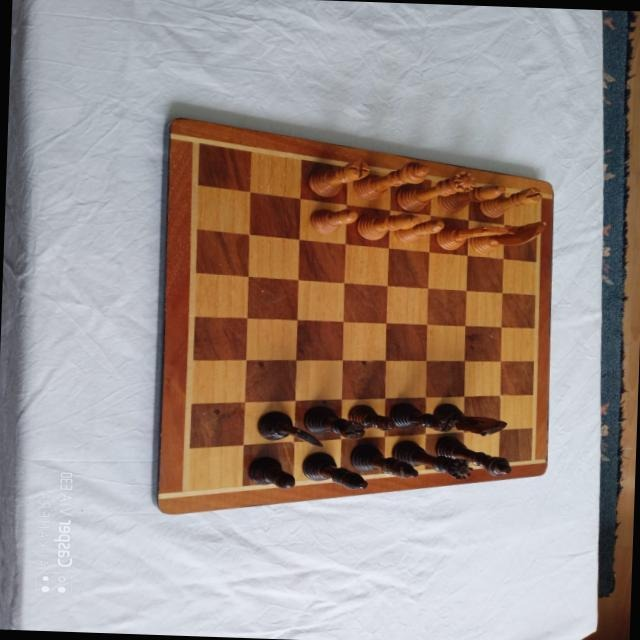black-bishop: (300, 450, 368, 490), (349, 441, 419, 479)
black-king: (433, 434, 512, 476)
black-knight: (254, 409, 325, 447), (430, 402, 507, 437)
black-pawn: (247, 454, 297, 490), (346, 403, 396, 431)
black-queen: (389, 439, 473, 481)
black-rook: (302, 405, 366, 439), (388, 401, 454, 433)
white-bishop: (435, 181, 505, 215), (354, 210, 421, 242)
white-king: (352, 158, 427, 201)
white-knight: (468, 218, 544, 255), (434, 222, 506, 251)
white-pawn: (308, 207, 356, 235), (393, 217, 442, 243)
white-queen: (395, 169, 476, 213)
white-rook: (307, 157, 369, 198), (478, 185, 542, 219)
